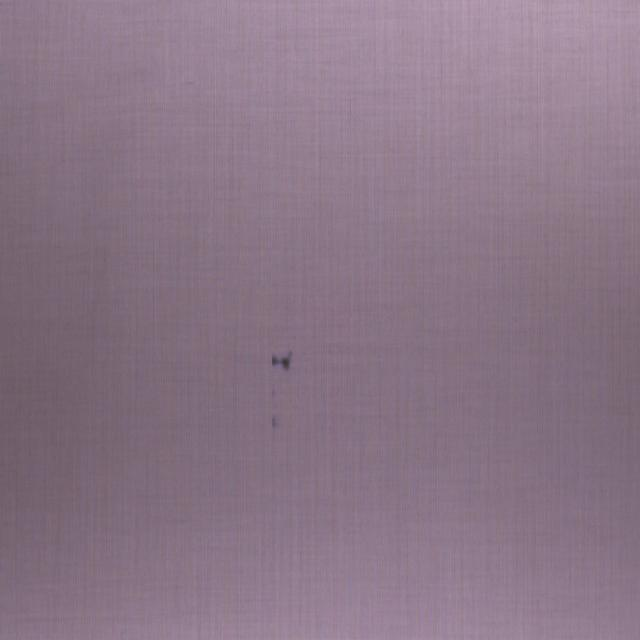dirty: (272, 352, 292, 373), (271, 418, 276, 428)
